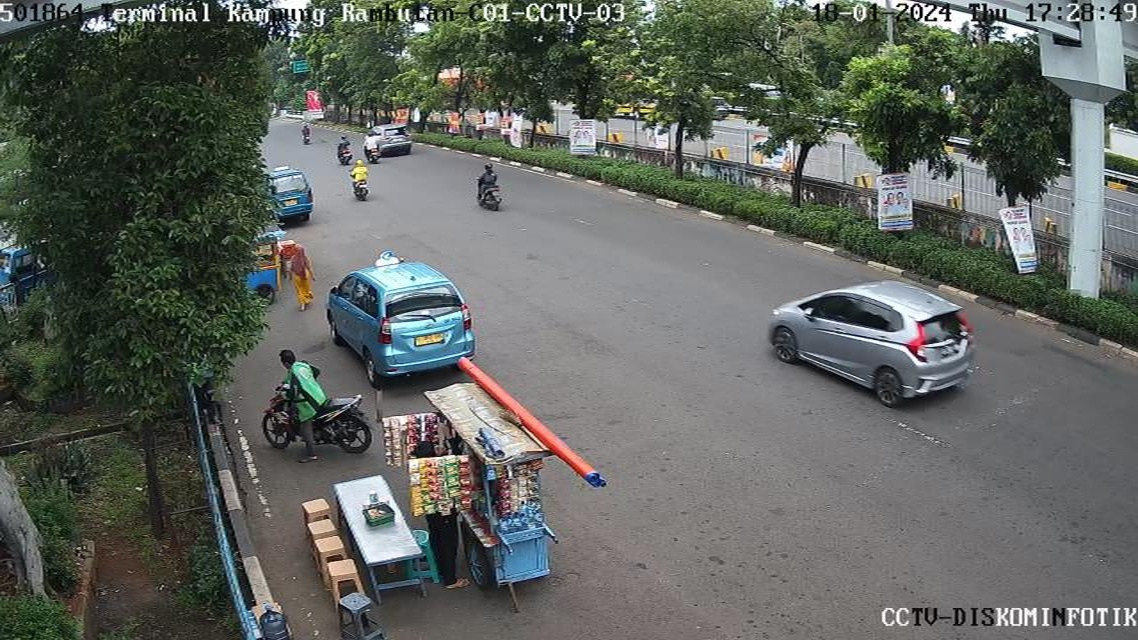Gerobak: (388, 366, 656, 592), (252, 230, 283, 303)
